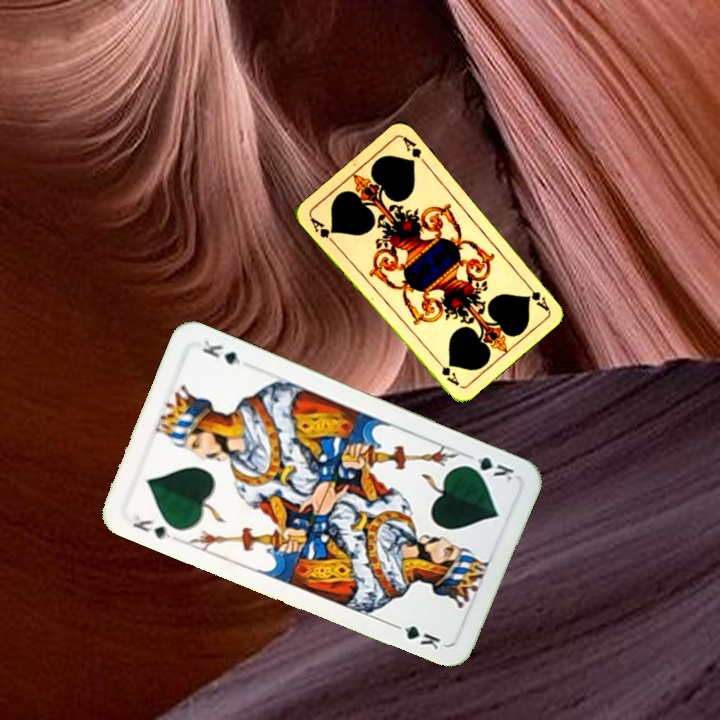GA: (306, 213, 338, 247), (521, 278, 552, 313)
GK: (459, 450, 517, 485), (129, 510, 175, 542)
